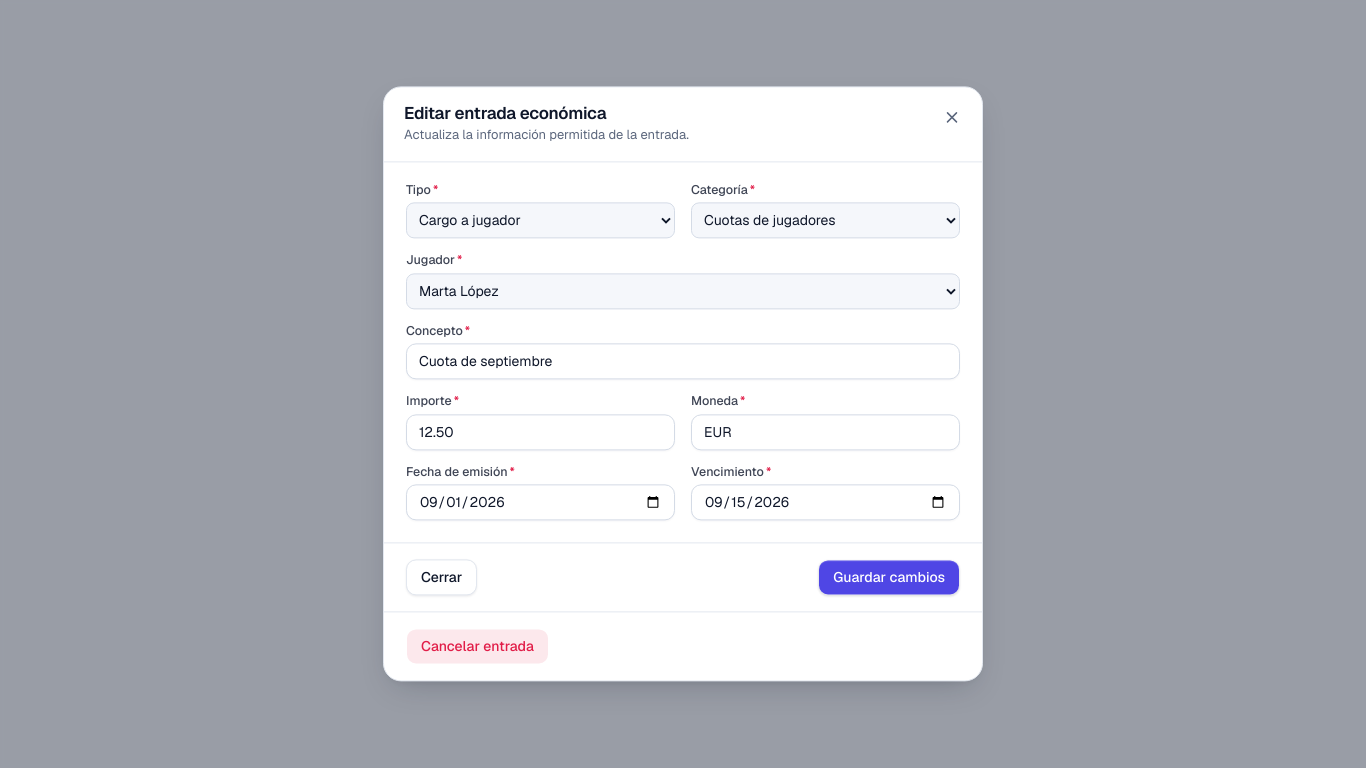
Test: EntradaEconomicaForm › pide confirmación y motivo antes de cancelar una entrada
Click the button "Cancelar entrada" at point(477, 647), box [406, 629, 549, 665]
(page scrolled)
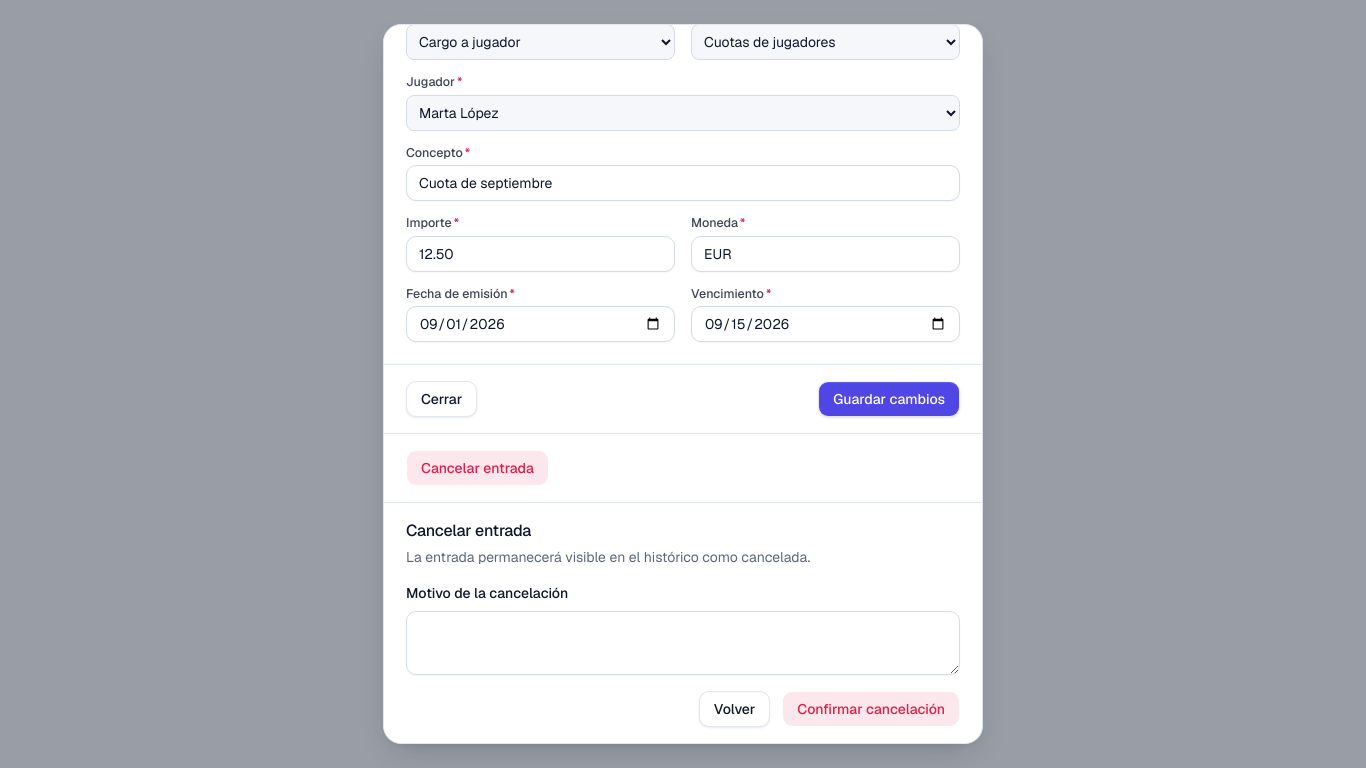
Click the button "Confirmar cancelación" at point(871, 709), box [782, 691, 960, 727]
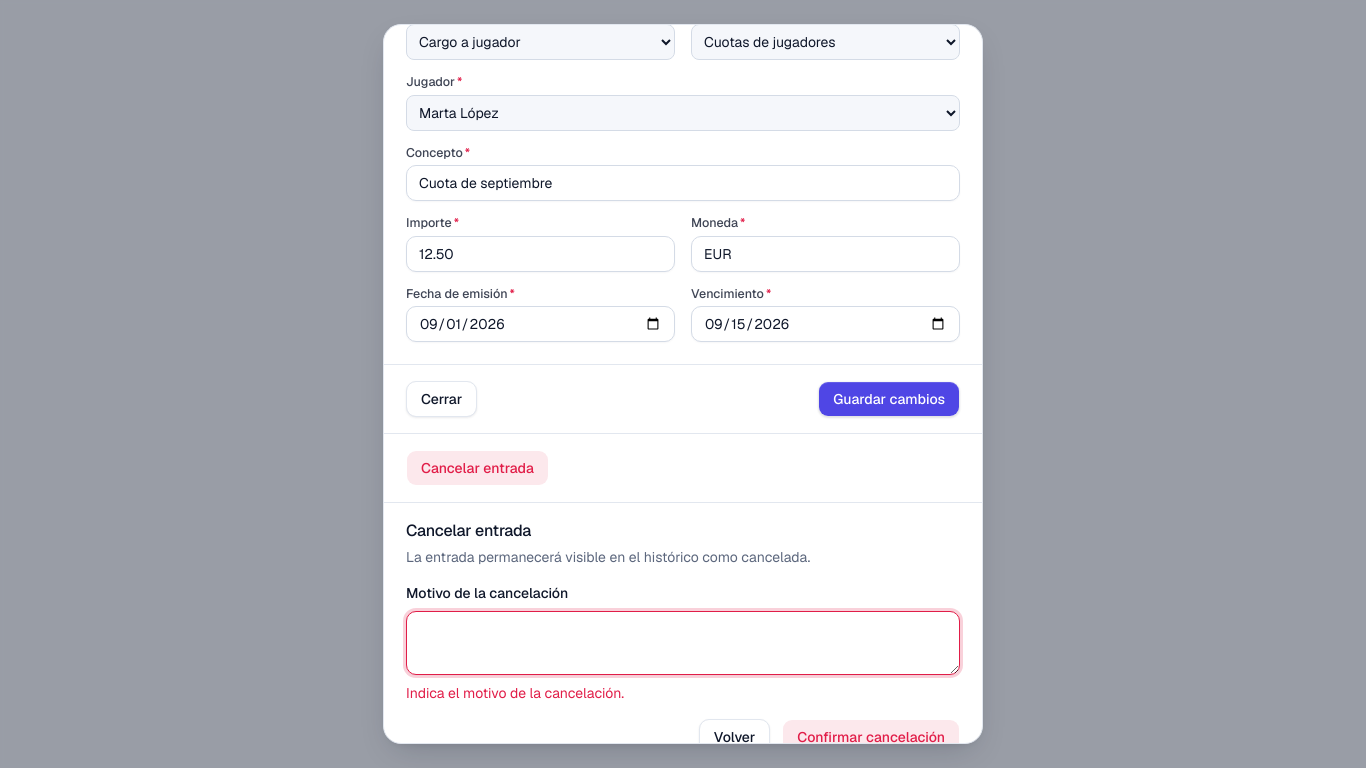
Check: the text "Indica el motivo de la cancelación." is shown, box [406, 684, 624, 702]
Type "Cuota duplicada" into the text box labelled "Motivo de la cancelación" at point(683, 643), box [406, 611, 960, 675]
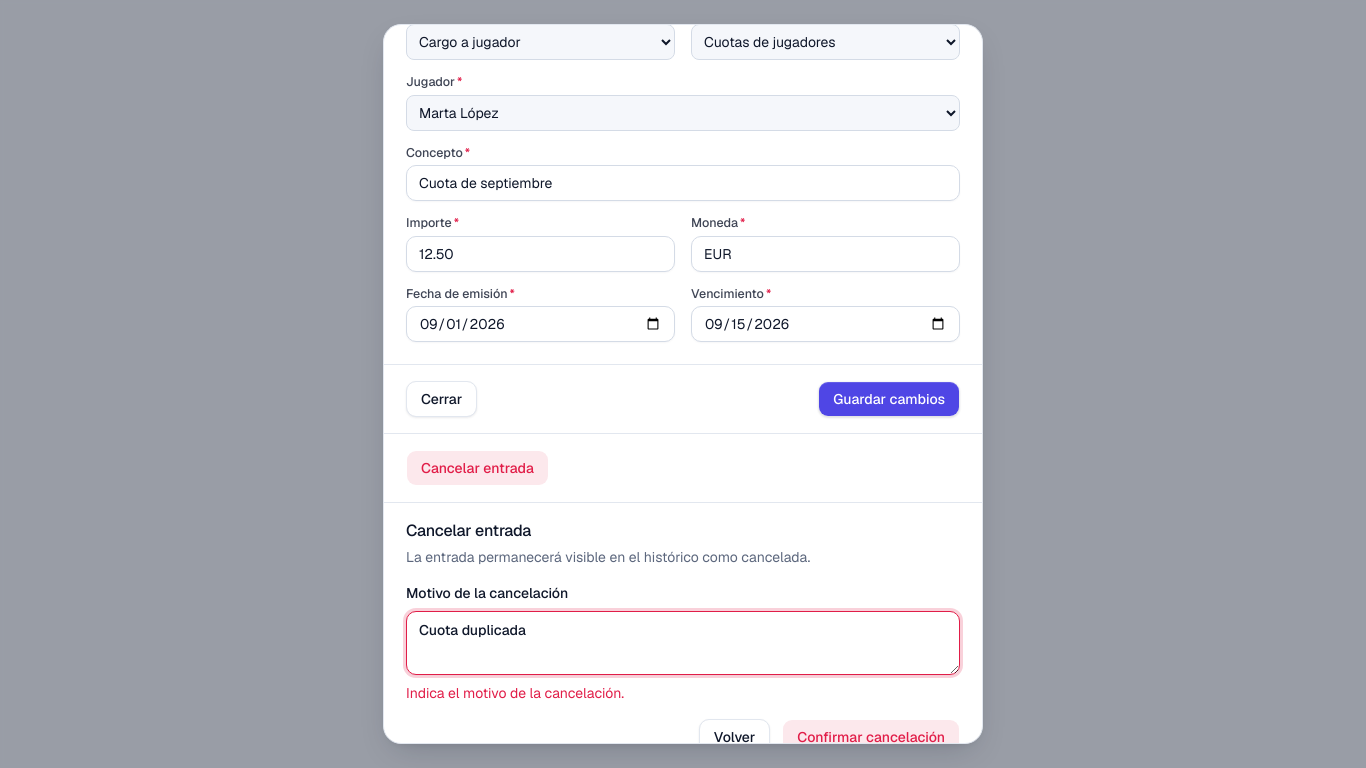
Click the button "Confirmar cancelación" at point(871, 737), box [782, 719, 960, 755]
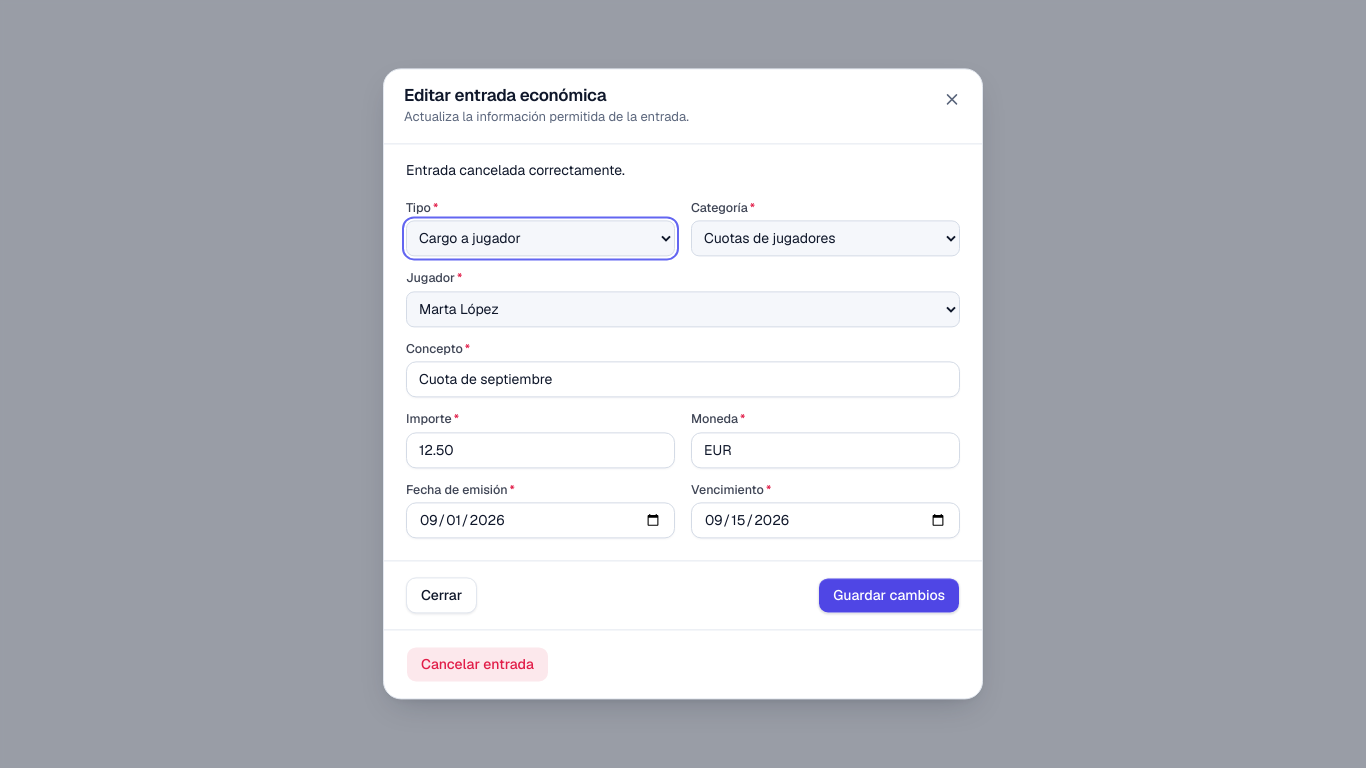
Check: the text "Entrada cancelada correctamente." is shown, box [406, 161, 625, 179]
